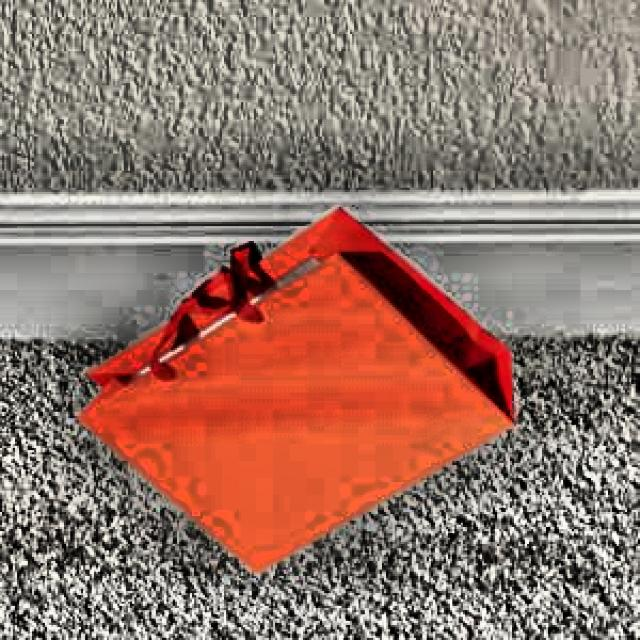Paper-bag: (72, 197, 541, 596)
